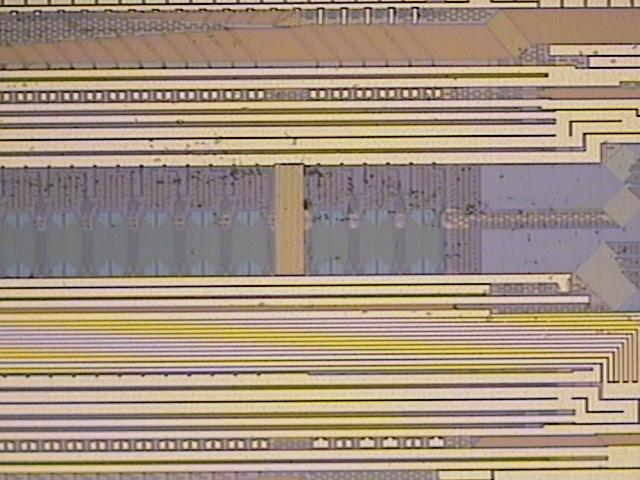PO CONTAMINATION: (1, 33, 640, 322)
